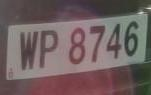4: (106, 19, 123, 62)
6: (122, 18, 141, 59)
7: (86, 22, 107, 66)
8: (66, 24, 90, 69)
P: (37, 25, 61, 75)
W: (17, 28, 40, 77)
